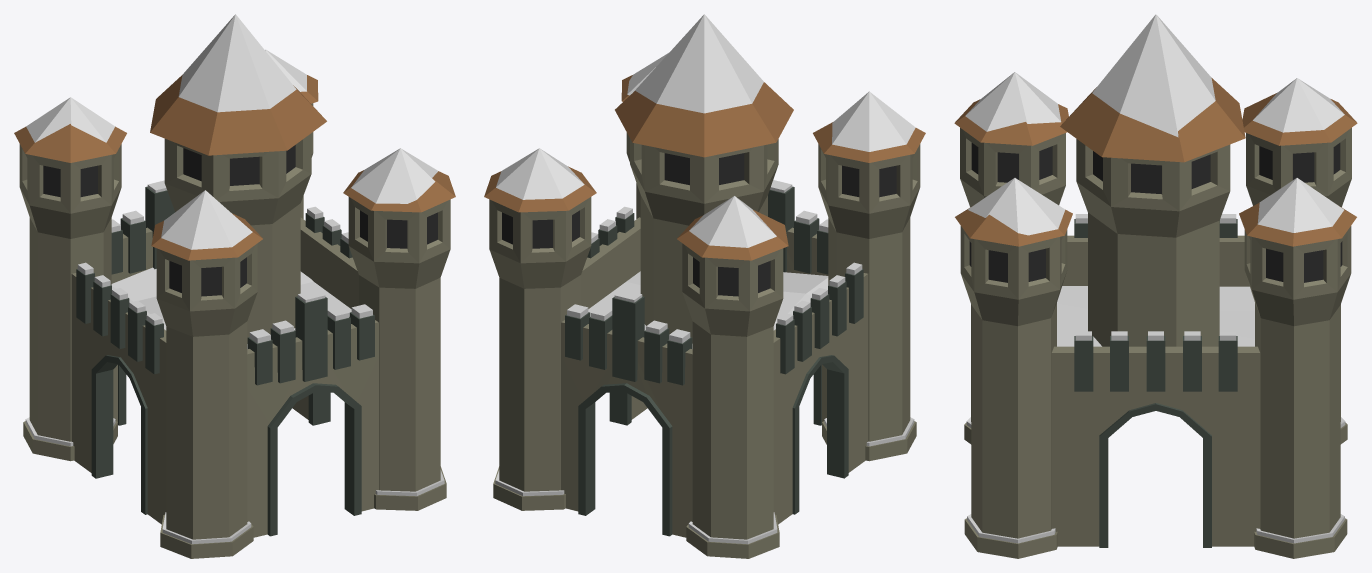
Rendered from Castle_3_lvl_snow_mat.fbx.
The picture shows the model from 3 angles, left to right: view 1: azimuth 30°, elevation 25°; view 2: azimuth 150°, elevation 25°; view 3: azimuth 270°, elevation 25°; orthographic projection. The views are drawn at different scales.
Visible parts, largest first — view 1: Castle_3_lvl.snow_mat; view 2: Castle_3_lvl.snow_mat; view 3: Castle_3_lvl.snow_mat.
Boxes of the visible parts, x1=… form: Castle_3_lvl.snow_mat: x1=14, y1=14, x2=455, y2=558; Castle_3_lvl.snow_mat: x1=484, y1=14, x2=925, y2=558; Castle_3_lvl.snow_mat: x1=954, y1=14, x2=1357, y2=558.
Size of the model in its own units: 4.83 by 7.08 by 5.46.
